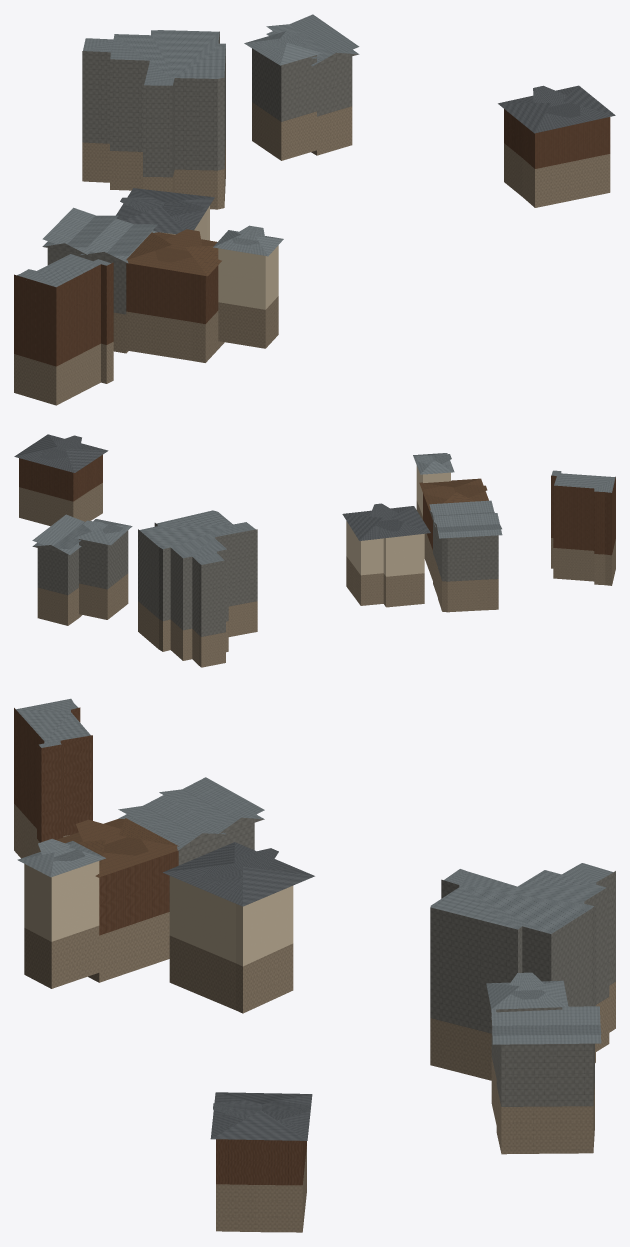
Rendered from bld_c10_19_428.gltf.
3 renders of one model, top to bottom at view 1: azimuth 30°, elevation 25°; view 2: azimuth 150°, elevation 25°; view 3: azimuth 270°, elevation 25°, orthographic. The views are drawn at different scales.
Visible parts, largest first — view 1: bld_c10_19_428; view 2: bld_c10_19_428; view 3: bld_c10_19_428.
Boxes of the visible parts, box(x1,y1,x2,y2) form: bld_c10_19_428: box(14, 14, 615, 405); bld_c10_19_428: box(14, 434, 615, 667); bld_c10_19_428: box(14, 698, 615, 1232).
Size of the model in its own units: 90.75 by 17.38 by 59.03.
9 materials, 9 textured.
